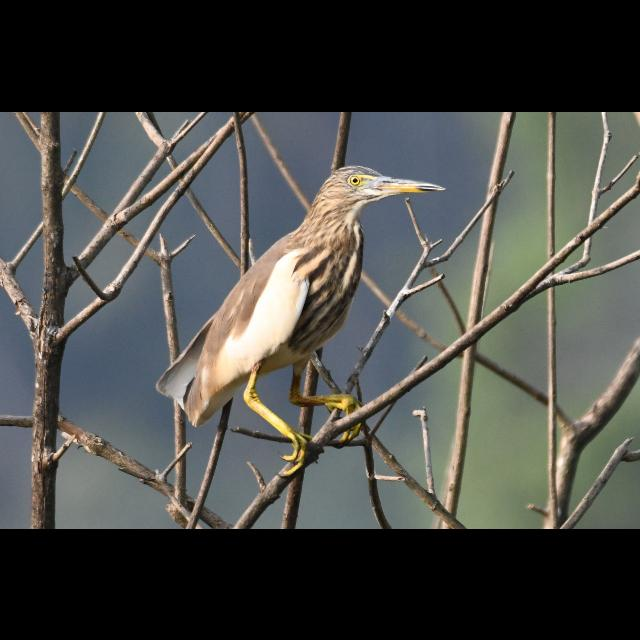heron: (172, 165, 446, 462)
